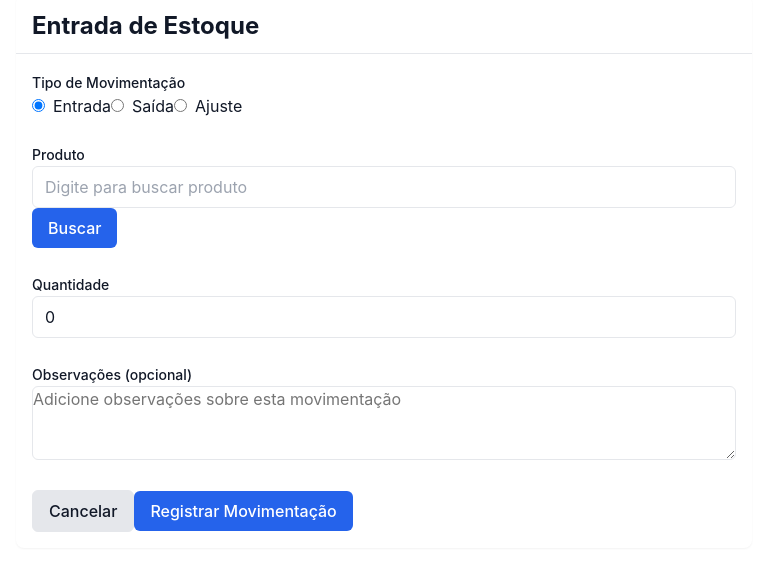
Test case: InventoryMovementView › Form Validation › should show error when product is not selected
Step 1. Replace the text in the number field labelled "Quantidade" with "10" → (384, 317), box [32,296,736,338]
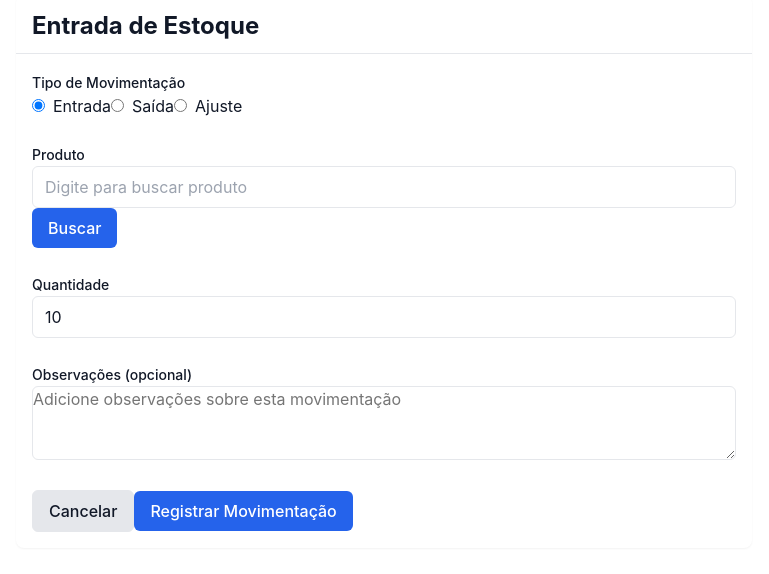
Step 2. Submit the form
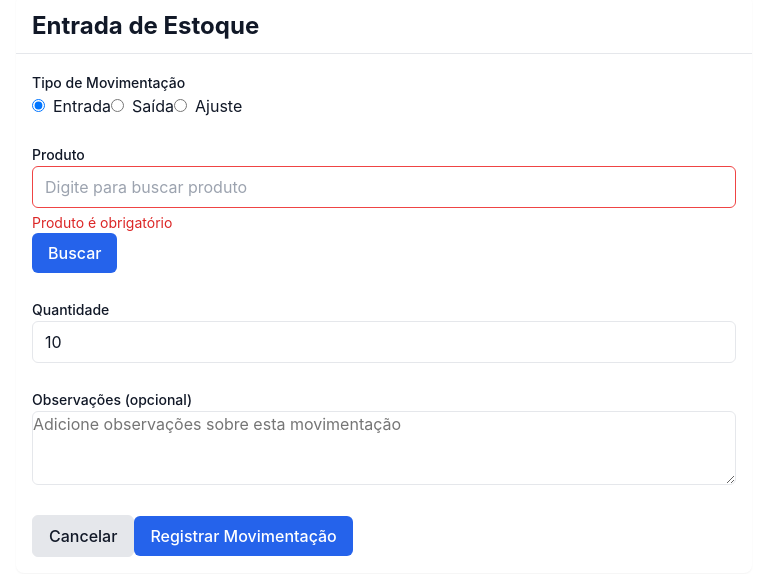
Result: the text "Produto é obrigatório" is shown at [32,214,172,231]
